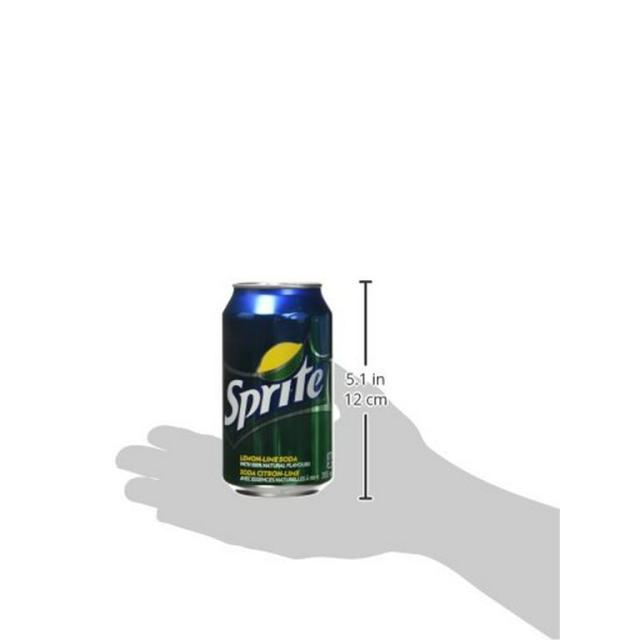sprite: (210, 270, 356, 514)
